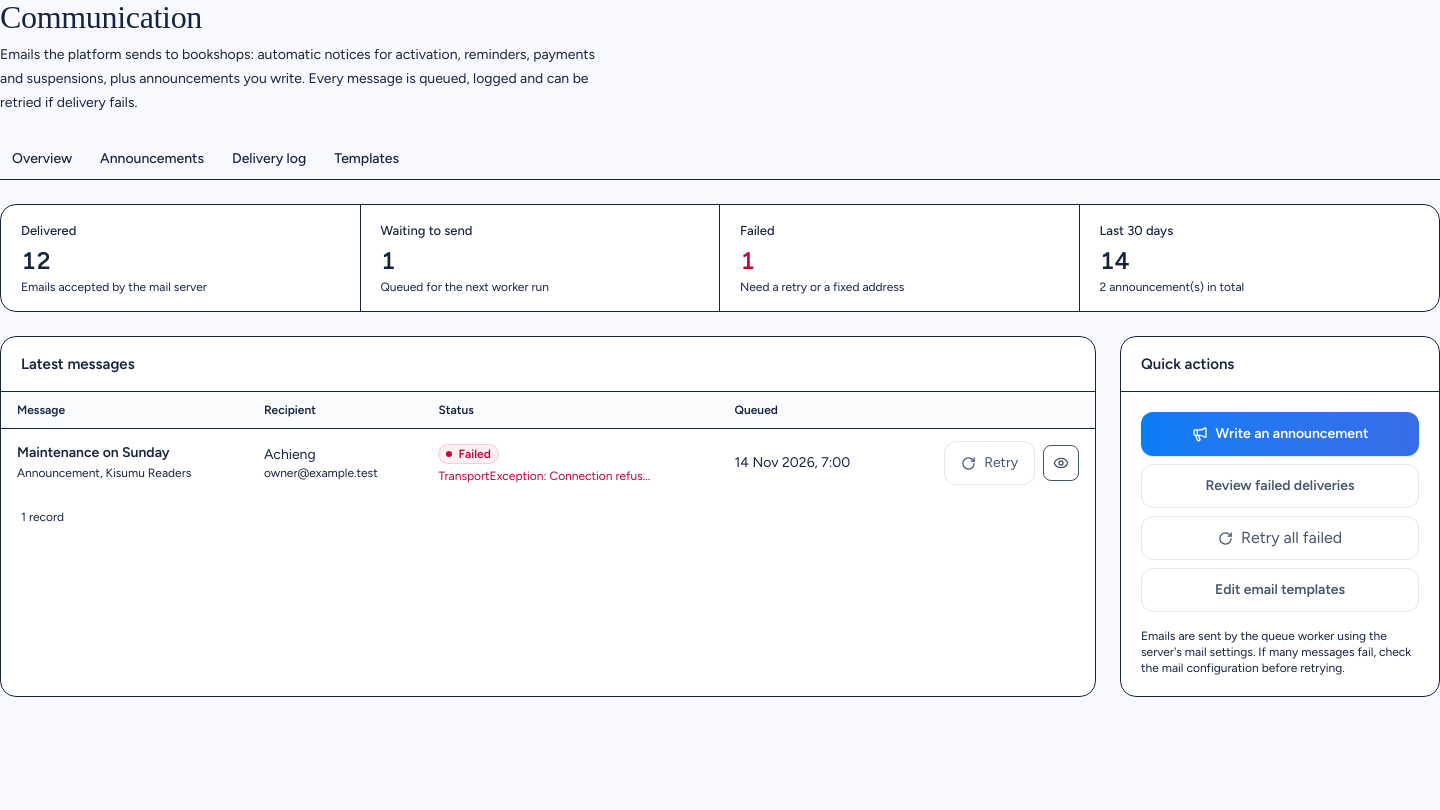
Test: Communication › summarises delivery and retries a failed email
Check: the text "12" is shown, box left=21, top=246, right=51, bottom=275
Check: the text "Failed" is shown, box left=438, top=444, right=499, bottom=464
Step 1. Click the button with aria-label "Retry email to owner@example.test" → (990,463), box left=944, top=441, right=1035, bottom=485
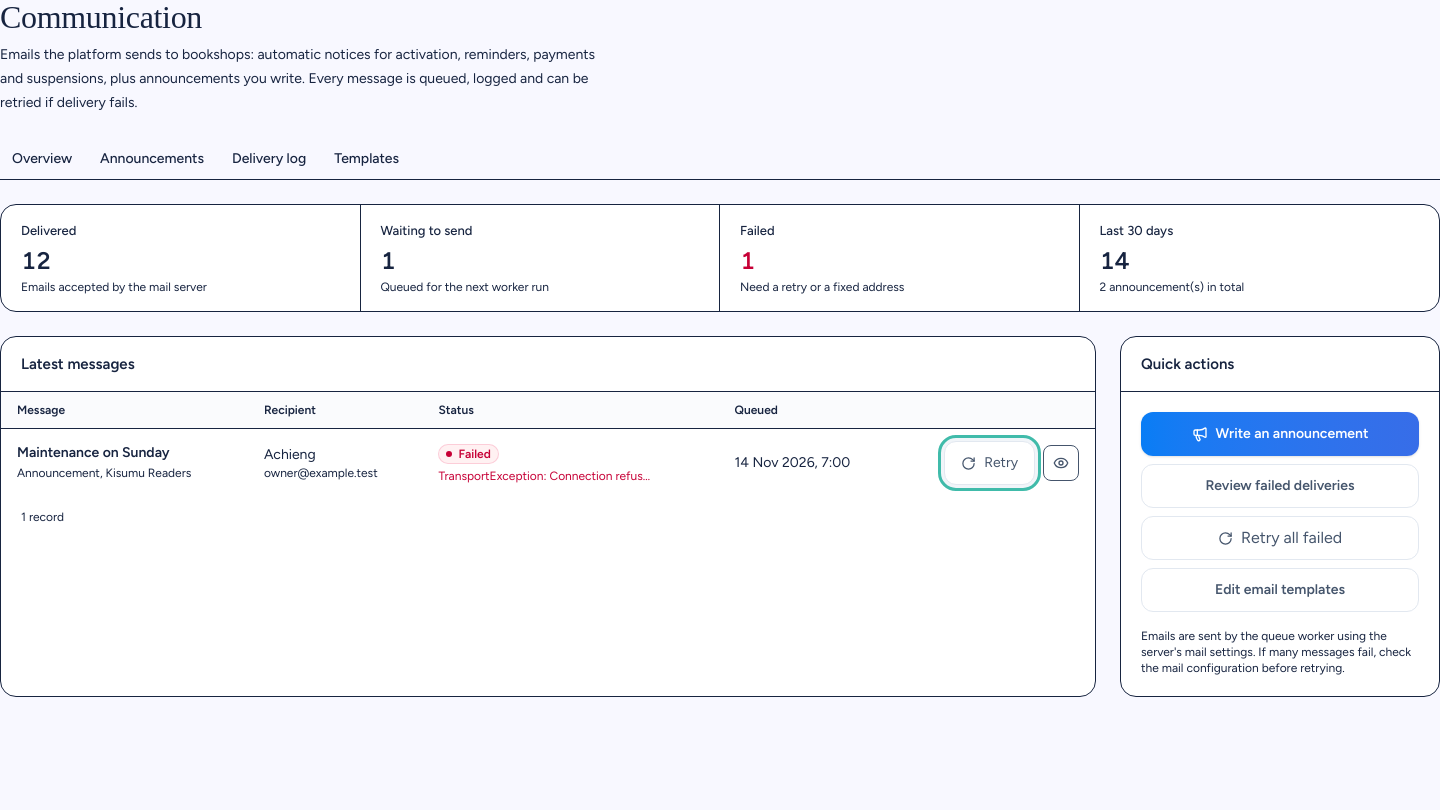
Step 2. Click the button named "View email to owner@example.test" → (1061,463), box left=1043, top=445, right=1079, bottom=481
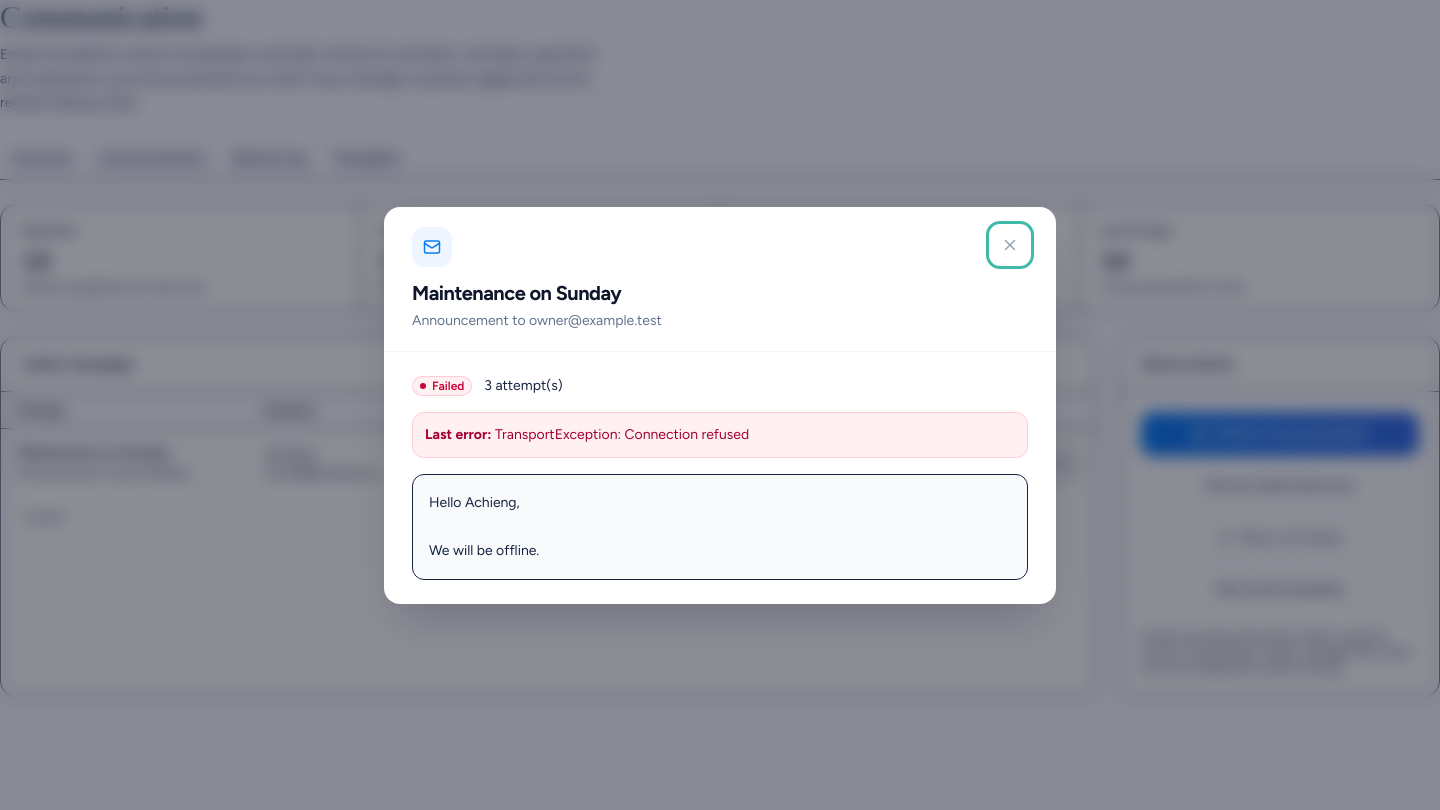
Check: the text "Last error: TransportException: Connection refused" is shown, box left=412, top=412, right=1028, bottom=458
